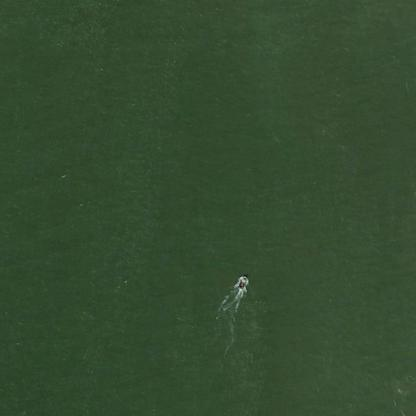ship: (230, 271, 253, 290)
